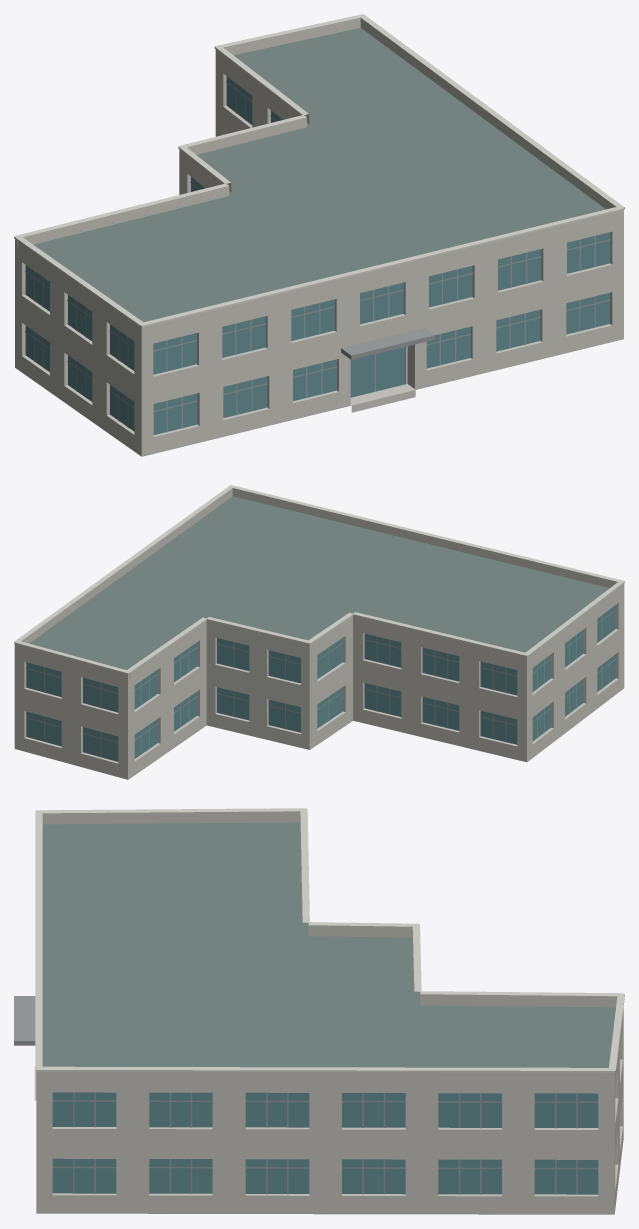
The picture shows the model from 3 angles, top to bottom: view 1: azimuth 30°, elevation 25°; view 2: azimuth 150°, elevation 25°; view 3: azimuth 270°, elevation 25°; orthographic projection. The views are drawn at different scales.
Visible parts, largest first — view 1: rotc__roof, rotc__wall, rotc__glass, rotc__parapet, rotc__trim, rotc__frame, rotc__canopy, rotc__entranceThreshold; view 2: rotc__roof, rotc__wall, rotc__glass, rotc__parapet, rotc__trim, rotc__frame; view 3: rotc__roof, rotc__wall, rotc__glass, rotc__parapet, rotc__trim, rotc__frame, rotc__canopy.
Part boxes in pixels (left/top/right/bottom): rotc__roof: left=15, top=27, right=623, bottom=456; rotc__wall: left=15, top=57, right=623, bottom=456; rotc__glass: left=25, top=76, right=610, bottom=434; rotc__parapet: left=15, top=17, right=623, bottom=335; rotc__trim: left=14, top=14, right=624, bottom=327; rotc__frame: left=25, top=81, right=610, bottom=432; rotc__canopy: left=341, top=328, right=434, bottom=359; rotc__entranceThreshold: left=350, top=384, right=415, bottom=412; rotc__roof: left=15, top=496, right=623, bottom=779; rotc__wall: left=14, top=590, right=624, bottom=779; rotc__glass: left=26, top=605, right=615, bottom=761; rotc__parapet: left=14, top=488, right=624, bottom=680; rotc__trim: left=14, top=485, right=624, bottom=674; rotc__frame: left=26, top=609, right=616, bottom=757; rotc__roof: left=36, top=822, right=620, bottom=1214; rotc__wall: left=36, top=1008, right=623, bottom=1214; rotc__glass: left=52, top=1092, right=599, bottom=1194; rotc__parapet: left=36, top=811, right=617, bottom=1081; rotc__trim: left=35, top=808, right=624, bottom=1072; rotc__frame: left=52, top=1092, right=598, bottom=1194; rotc__canopy: left=14, top=996, right=35, bottom=1045.
Bounding box in the file's own units: 30.54 × 8.2 × 30.01.
